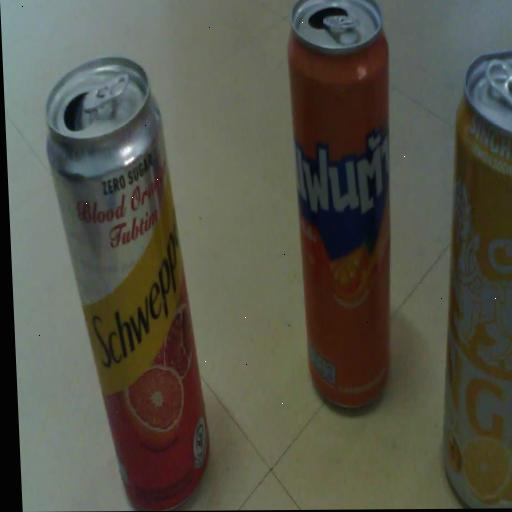canned: (30, 40, 223, 512), (274, 0, 409, 424), (417, 30, 512, 509)
